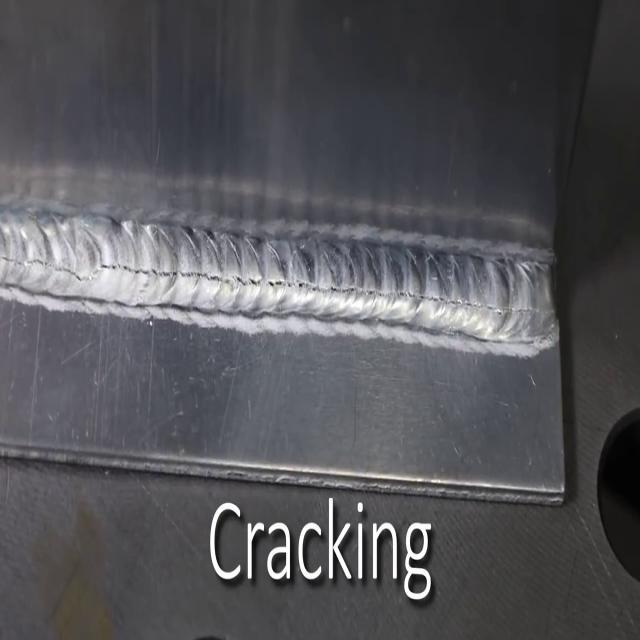Crack: (0, 202, 556, 351)
